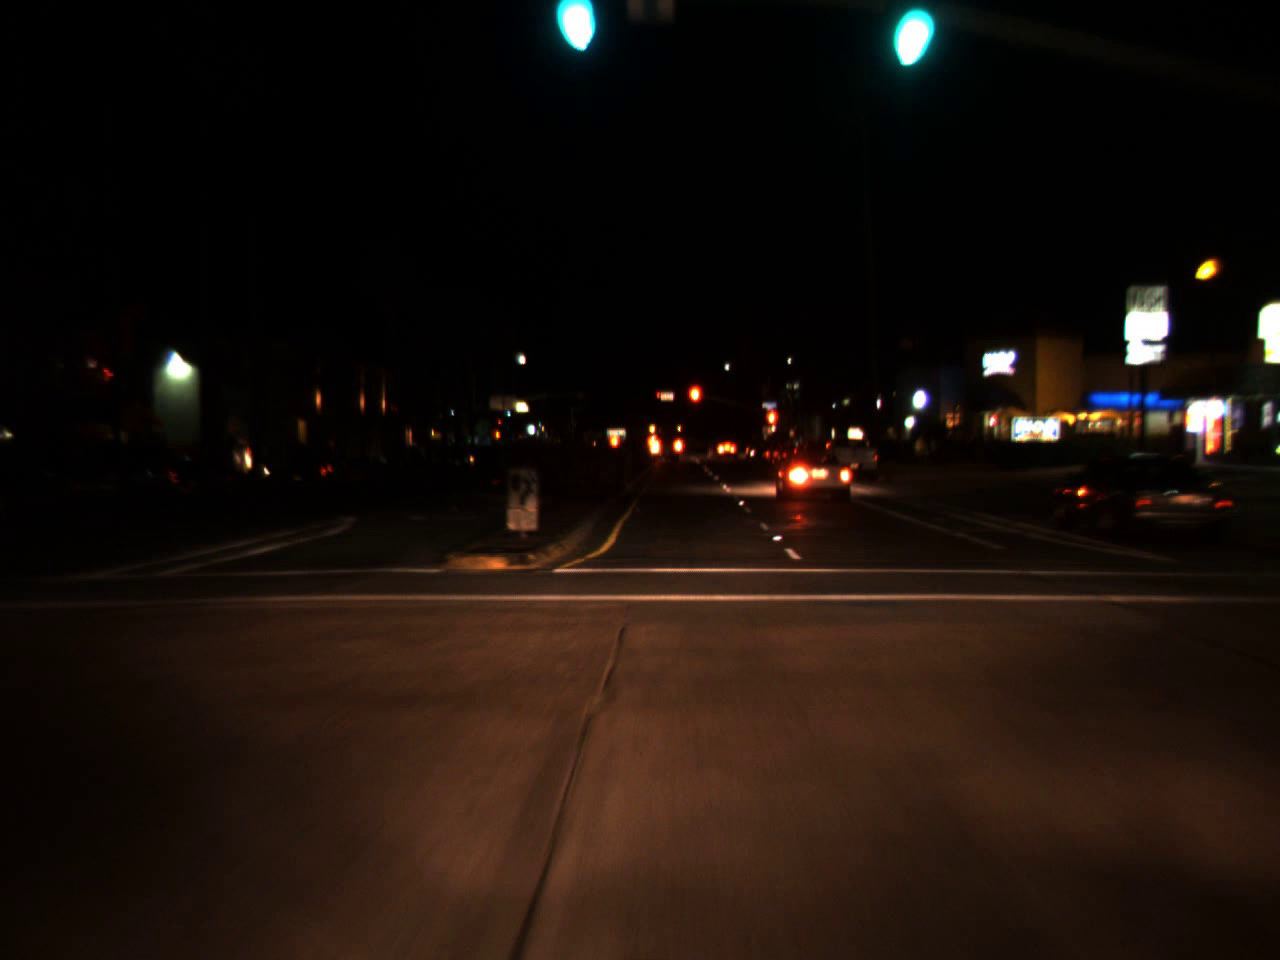go: (888, 0, 931, 64), (551, 0, 597, 50)
stop: (686, 382, 703, 425), (764, 406, 780, 449), (655, 390, 661, 403)
